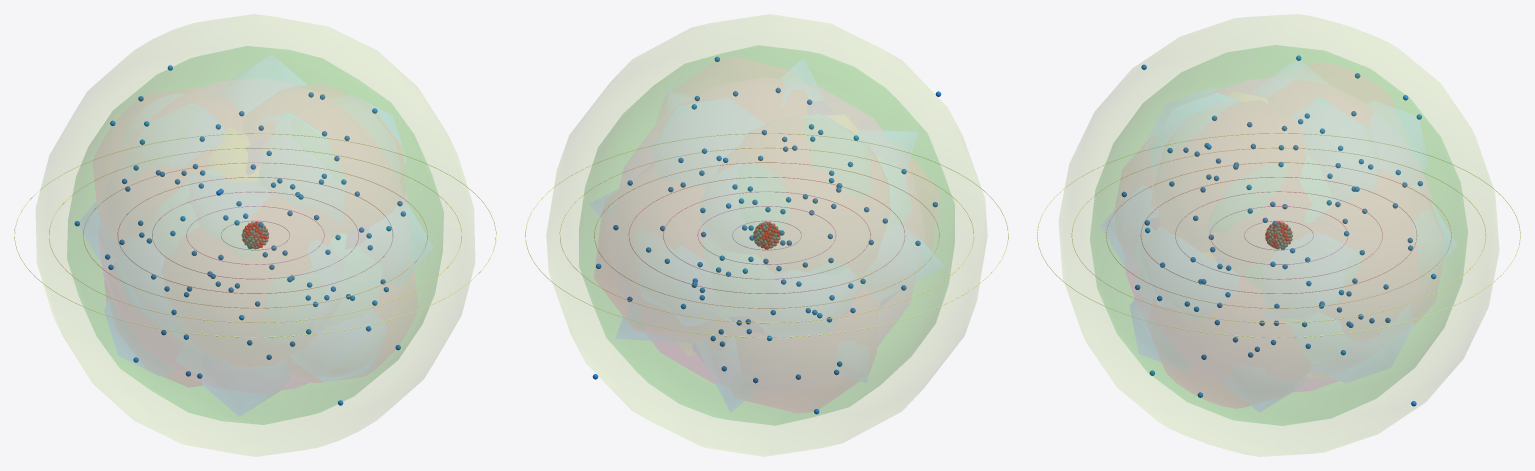
3 views of the same model, side by side, from view 1: azimuth 30°, elevation 25°; view 2: azimuth 150°, elevation 25°; view 3: azimuth 270°, elevation 25° (orthographic).
Parts seen in each view (by area): view 1: Orbital_7s_0, Orbital_6s_0, Orbital_6p_2, Orbital_6d_1, Nivel_n7, Nivel_n6, Nivel_n5, Orbital_6p_1, Orbital_6d_4, Nivel_n4, Orbital_5s_0, Orbital_6d_3 (+1 smaller); view 2: Orbital_7s_0, Orbital_6s_0, Orbital_6p_1, Orbital_5s_0, Orbital_6p_0, Nivel_n7, Orbital_6d_3, Nivel_n6, Nivel_n5, Orbital_6d_4, Nivel_n4, Nivel_n3; view 3: Orbital_7s_0, Orbital_6s_0, Orbital_6p_2, Orbital_6d_4, Orbital_6d_0, Nivel_n7, Orbital_6p_0, Orbital_6d_3, Nivel_n6, Orbital_5s_0, Orbital_6d_2, Nivel_n5 (+2 smaller).
Boxes of the visible parts, x1,y1,x2,y2 form: Orbital_7s_0: [36, 14, 474, 456]; Orbital_6s_0: [67, 46, 443, 424]; Orbital_6p_2: [93, 88, 417, 382]; Orbital_6d_1: [80, 55, 432, 415]; Nivel_n7: [14, 133, 496, 337]; Nivel_n6: [49, 148, 461, 322]; Nivel_n5: [83, 162, 427, 308]; Orbital_6p_1: [105, 84, 405, 386]; Orbital_6d_4: [105, 95, 405, 375]; Nivel_n4: [117, 177, 393, 293]; Orbital_5s_0: [99, 80, 407, 389]; Orbital_6d_3: [116, 113, 344, 330]; Orbital_7s_0: [547, 14, 986, 456]; Orbital_6s_0: [579, 46, 954, 424]; Orbital_6p_1: [657, 58, 876, 412]; Orbital_5s_0: [620, 84, 913, 383]; Orbital_6p_0: [594, 156, 939, 332]; Nivel_n7: [525, 133, 1008, 337]; Orbital_6d_3: [590, 59, 943, 411]; Nivel_n6: [559, 147, 974, 323]; Nivel_n5: [594, 162, 939, 308]; Orbital_6d_4: [616, 88, 917, 382]; Nivel_n4: [628, 177, 905, 293]; Nivel_n3: [663, 191, 870, 279]; Orbital_7s_0: [1059, 14, 1498, 456]; Orbital_6s_0: [1090, 45, 1467, 425]; Orbital_6p_2: [1161, 63, 1394, 407]; Orbital_6d_4: [1147, 88, 1413, 382]; Orbital_6d_0: [1130, 107, 1427, 361]; Nivel_n7: [1037, 133, 1520, 337]; Orbital_6p_0: [1115, 135, 1442, 324]; Orbital_6d_3: [1150, 93, 1234, 167]; Nivel_n6: [1071, 147, 1486, 323]; Orbital_5s_0: [1126, 79, 1431, 391]; Orbital_6d_2: [1101, 60, 1456, 411]; Nivel_n5: [1106, 162, 1451, 308].
Size of the model in its own units: 2.1 by 1.92 by 2.1.
